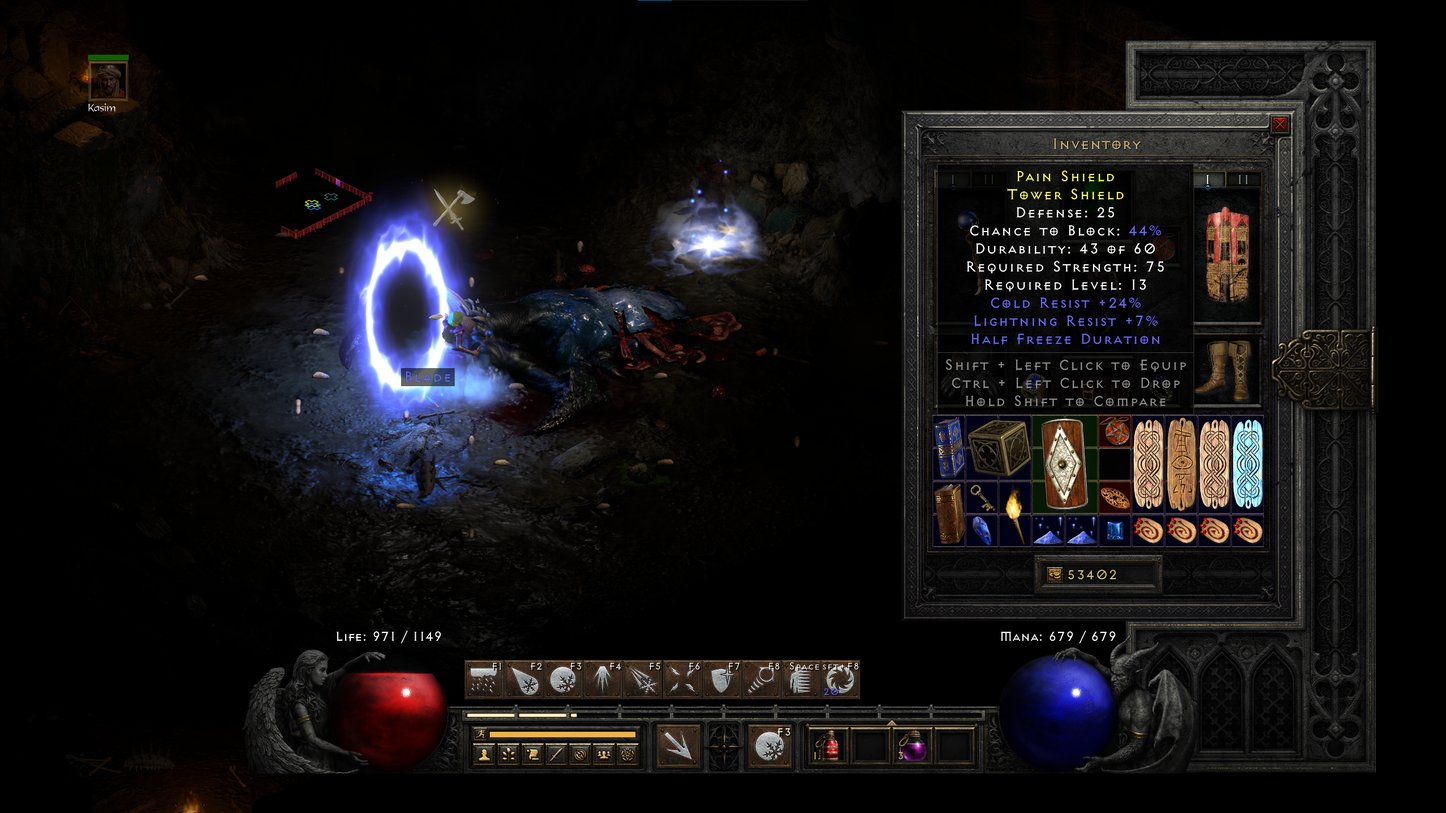tooltip: (937, 165, 1194, 414)
